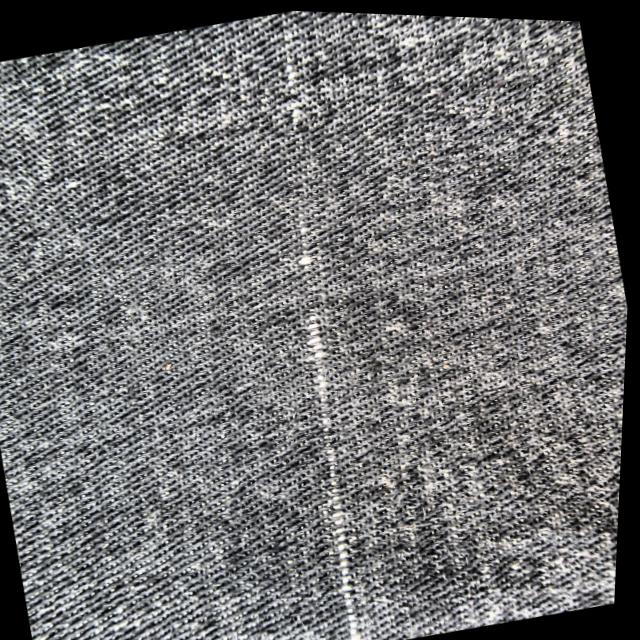Hole: (224, 8, 418, 640)
